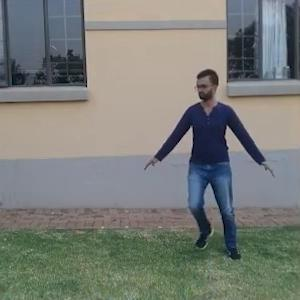land: (153, 74, 275, 235)
